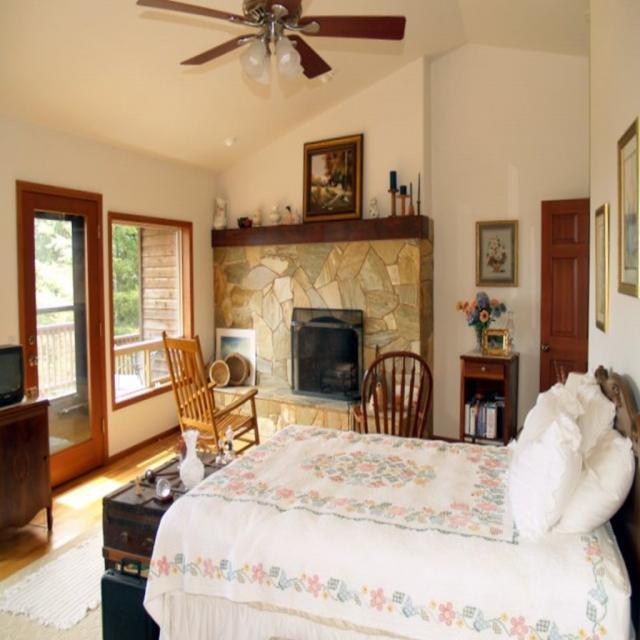bulb_off: (278, 53, 295, 69)
fan_off: (132, 0, 407, 78)
